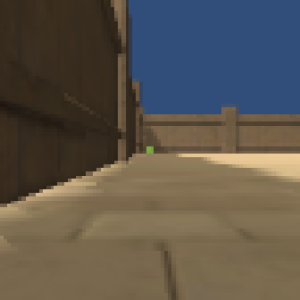goodGoal: (143, 143, 155, 155)
